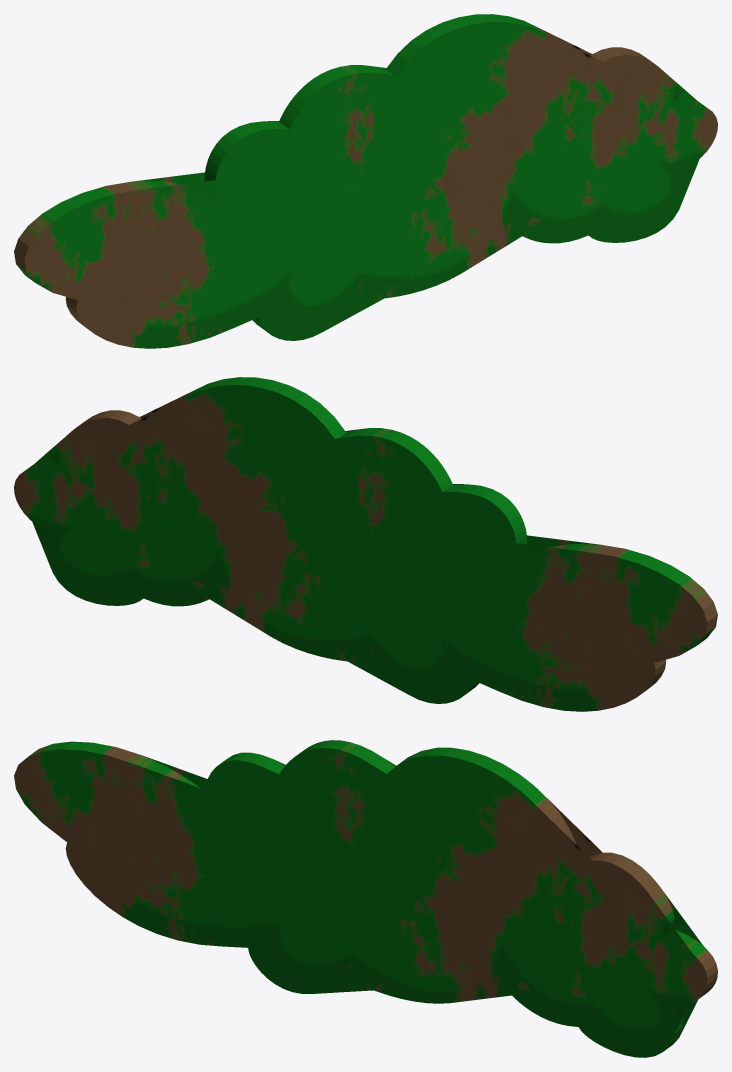
File: arbusto 3.fbx
The picture shows the model from 3 angles, top to bottom: view 1: azimuth 30°, elevation 25°; view 2: azimuth 150°, elevation 25°; view 3: azimuth 330°, elevation 25°; orthographic projection.
Visible parts, largest first — view 1: arbusto 3; view 2: arbusto 3; view 3: arbusto 3.
Boxes of the visible parts, x1=… form: arbusto 3: x1=14, y1=14, x2=717, y2=348; arbusto 3: x1=14, y1=377, x2=717, y2=711; arbusto 3: x1=14, y1=740, x2=717, y2=1057.
Size of the model in its own units: 669 by 253 by 17.73.
